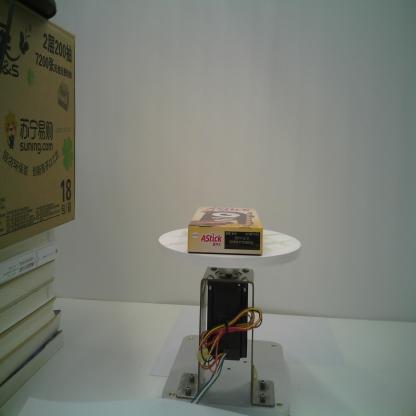Dessert: (186, 206, 263, 256)
